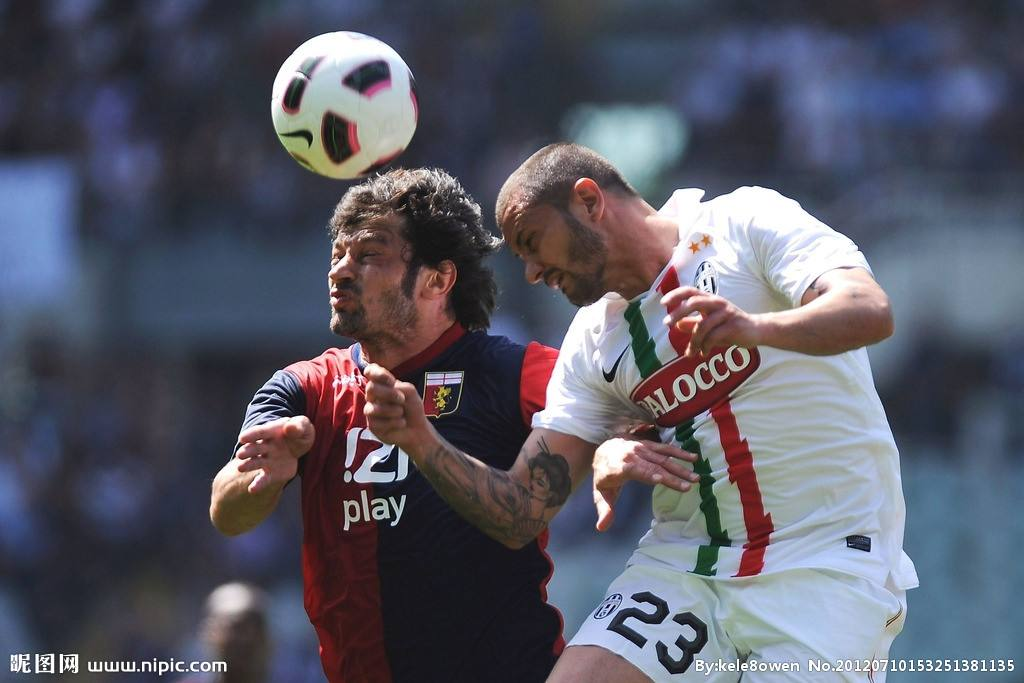football: (271, 29, 423, 181)
